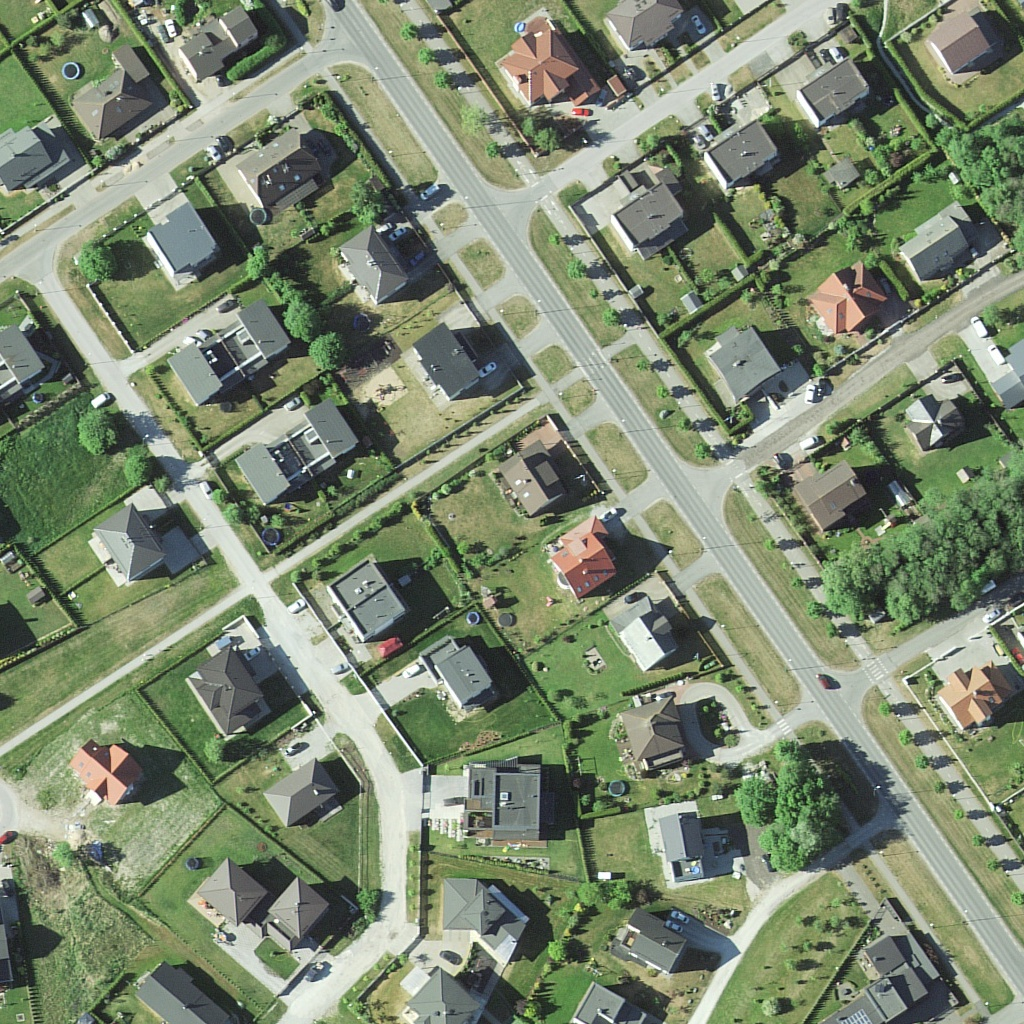building: (167, 297, 289, 405), (242, 396, 358, 504), (827, 937, 950, 1024), (461, 756, 547, 858), (498, 25, 584, 112), (188, 643, 264, 738), (329, 553, 408, 643), (75, 55, 155, 141), (242, 124, 323, 203), (175, 3, 252, 82), (708, 321, 783, 402), (336, 223, 408, 304), (424, 633, 495, 715), (617, 183, 691, 261), (795, 56, 872, 130), (74, 739, 144, 817), (496, 438, 565, 517), (814, 265, 889, 335), (148, 206, 227, 272), (898, 219, 975, 285), (138, 969, 230, 1024), (612, 906, 694, 966), (714, 117, 776, 195), (414, 319, 476, 397), (267, 762, 337, 831), (556, 519, 616, 599), (621, 701, 688, 772), (801, 462, 868, 532), (615, 603, 681, 671), (941, 659, 1005, 728), (604, 1, 680, 58), (102, 499, 151, 585), (398, 970, 475, 1024), (929, 12, 997, 73), (905, 398, 971, 455), (200, 864, 261, 922), (435, 871, 491, 933), (1, 124, 56, 186), (661, 806, 714, 866), (272, 889, 331, 937), (577, 981, 640, 1024)
